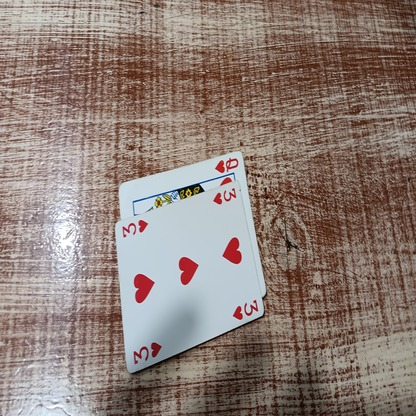3h: (127, 336, 163, 366), (230, 296, 259, 317), (121, 220, 151, 236), (214, 187, 236, 207)
Qh: (213, 156, 239, 174)
